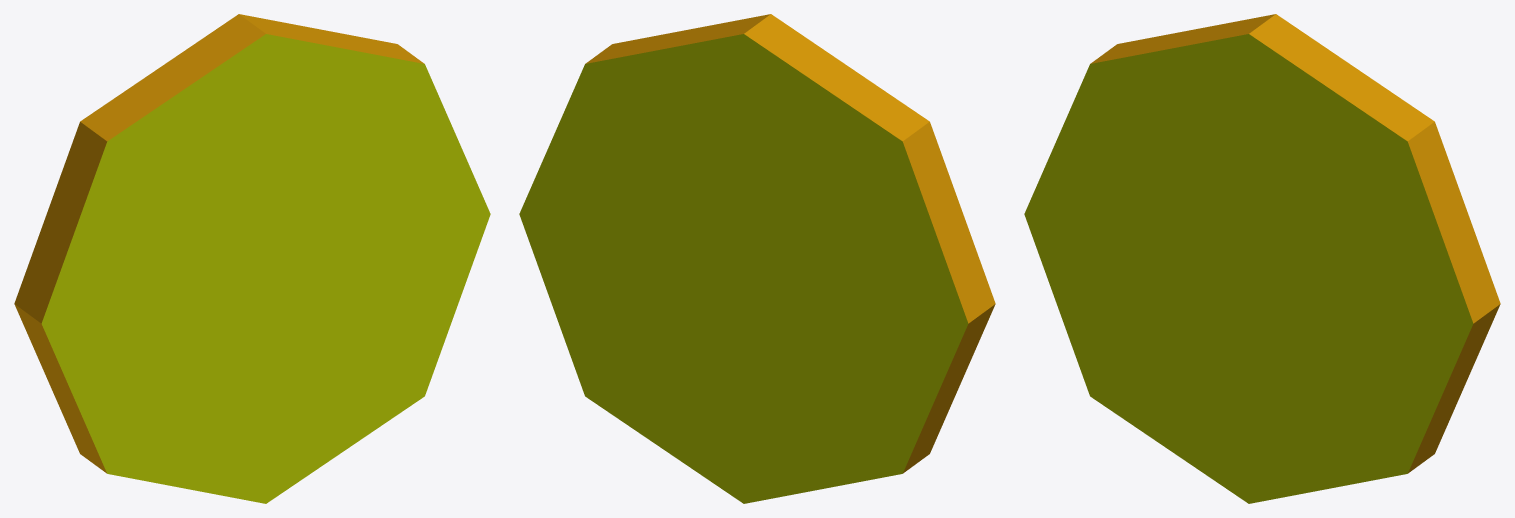
The model's file is coin.fbx.
The picture shows the model from 3 angles, left to right: view 1: azimuth 30°, elevation 25°; view 2: azimuth 150°, elevation 25°; view 3: azimuth 330°, elevation 25°; orthographic projection.
Visible parts, largest first — view 1: Circle; view 2: Circle; view 3: Circle.
Boxes of the visible parts, x1,y1,x2,y2 form: Circle: (14, 14, 490, 503); Circle: (519, 14, 995, 503); Circle: (1024, 14, 1500, 503).
Size of the model in its own units: 100 by 100 by 10.5.
